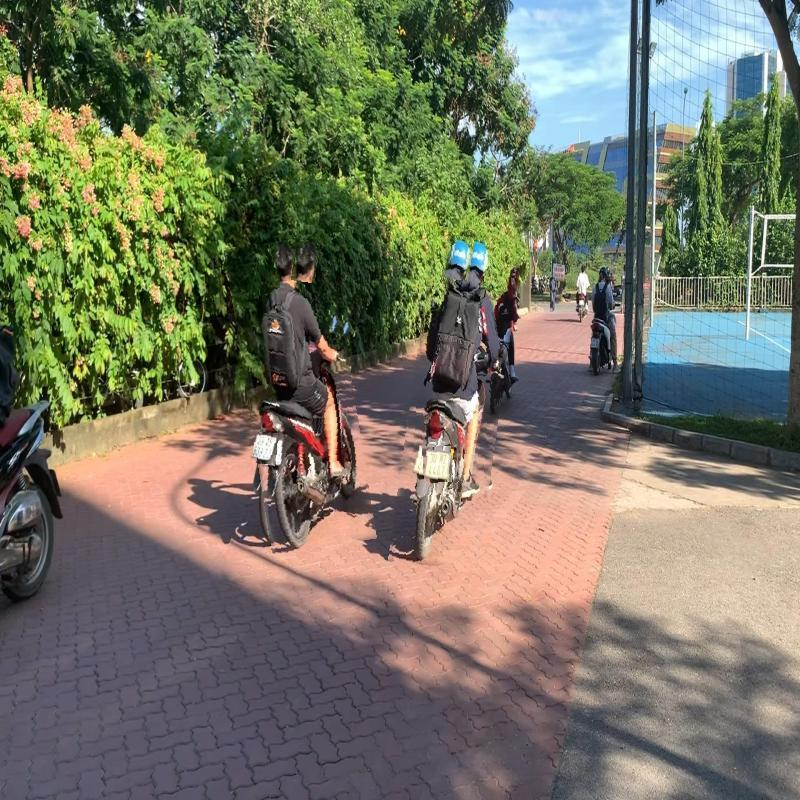helmet: (442, 235, 473, 281)
licenseplate: (423, 447, 452, 483), (250, 432, 278, 465)
motorcyclist: (236, 236, 366, 551), (400, 228, 513, 571)
nohelmet: (292, 242, 320, 282)
